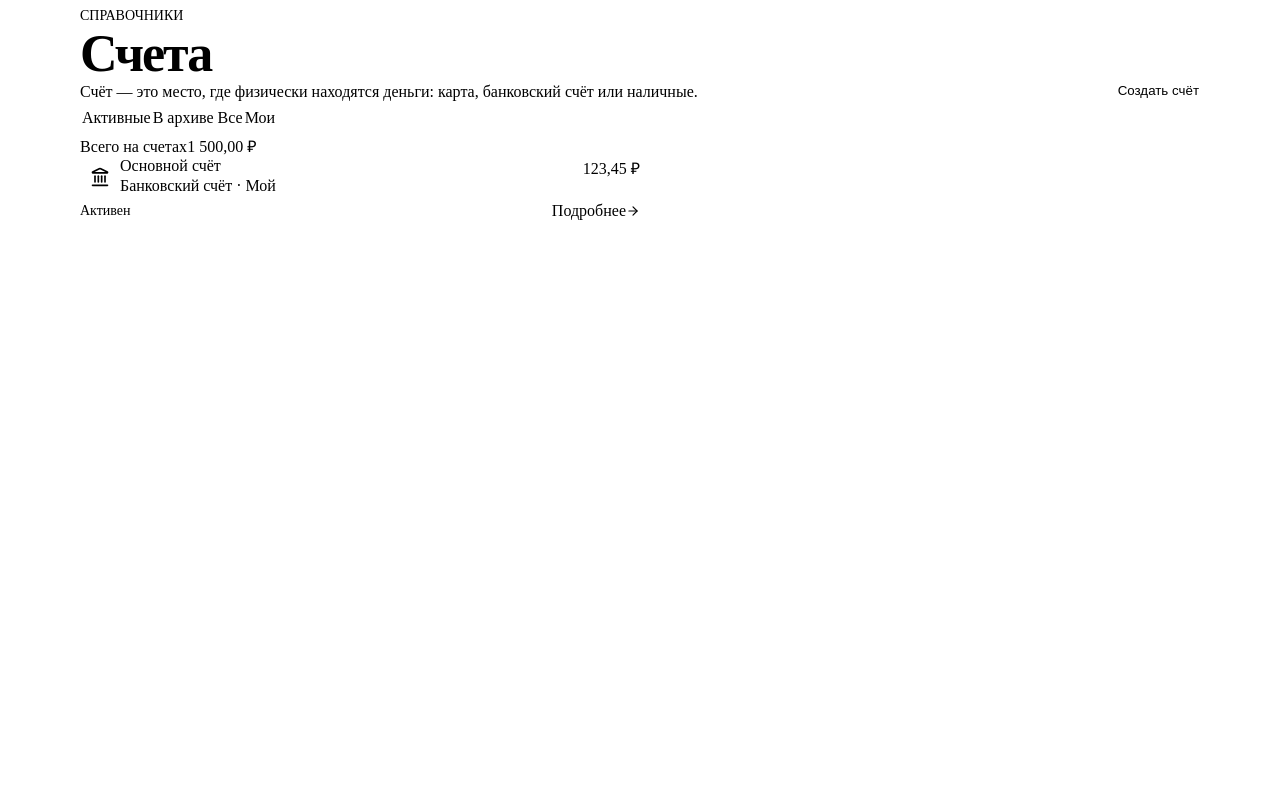
Test case: accounts page › opens the dialog from a card
Click the button with test id "account-card-select".
click(170, 166)  # box [80,157,640,225]
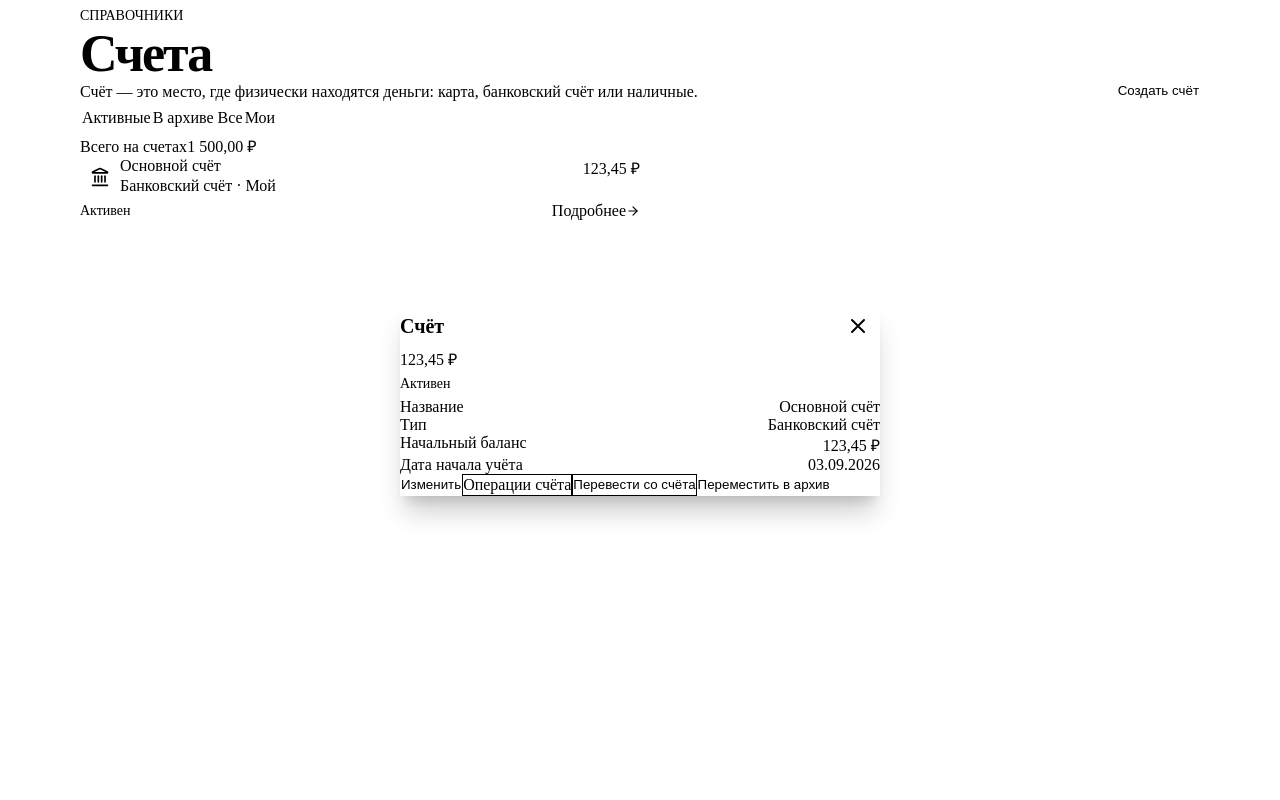
Now the dialog with test id "modal" is shown, box [400,304,880,496]
